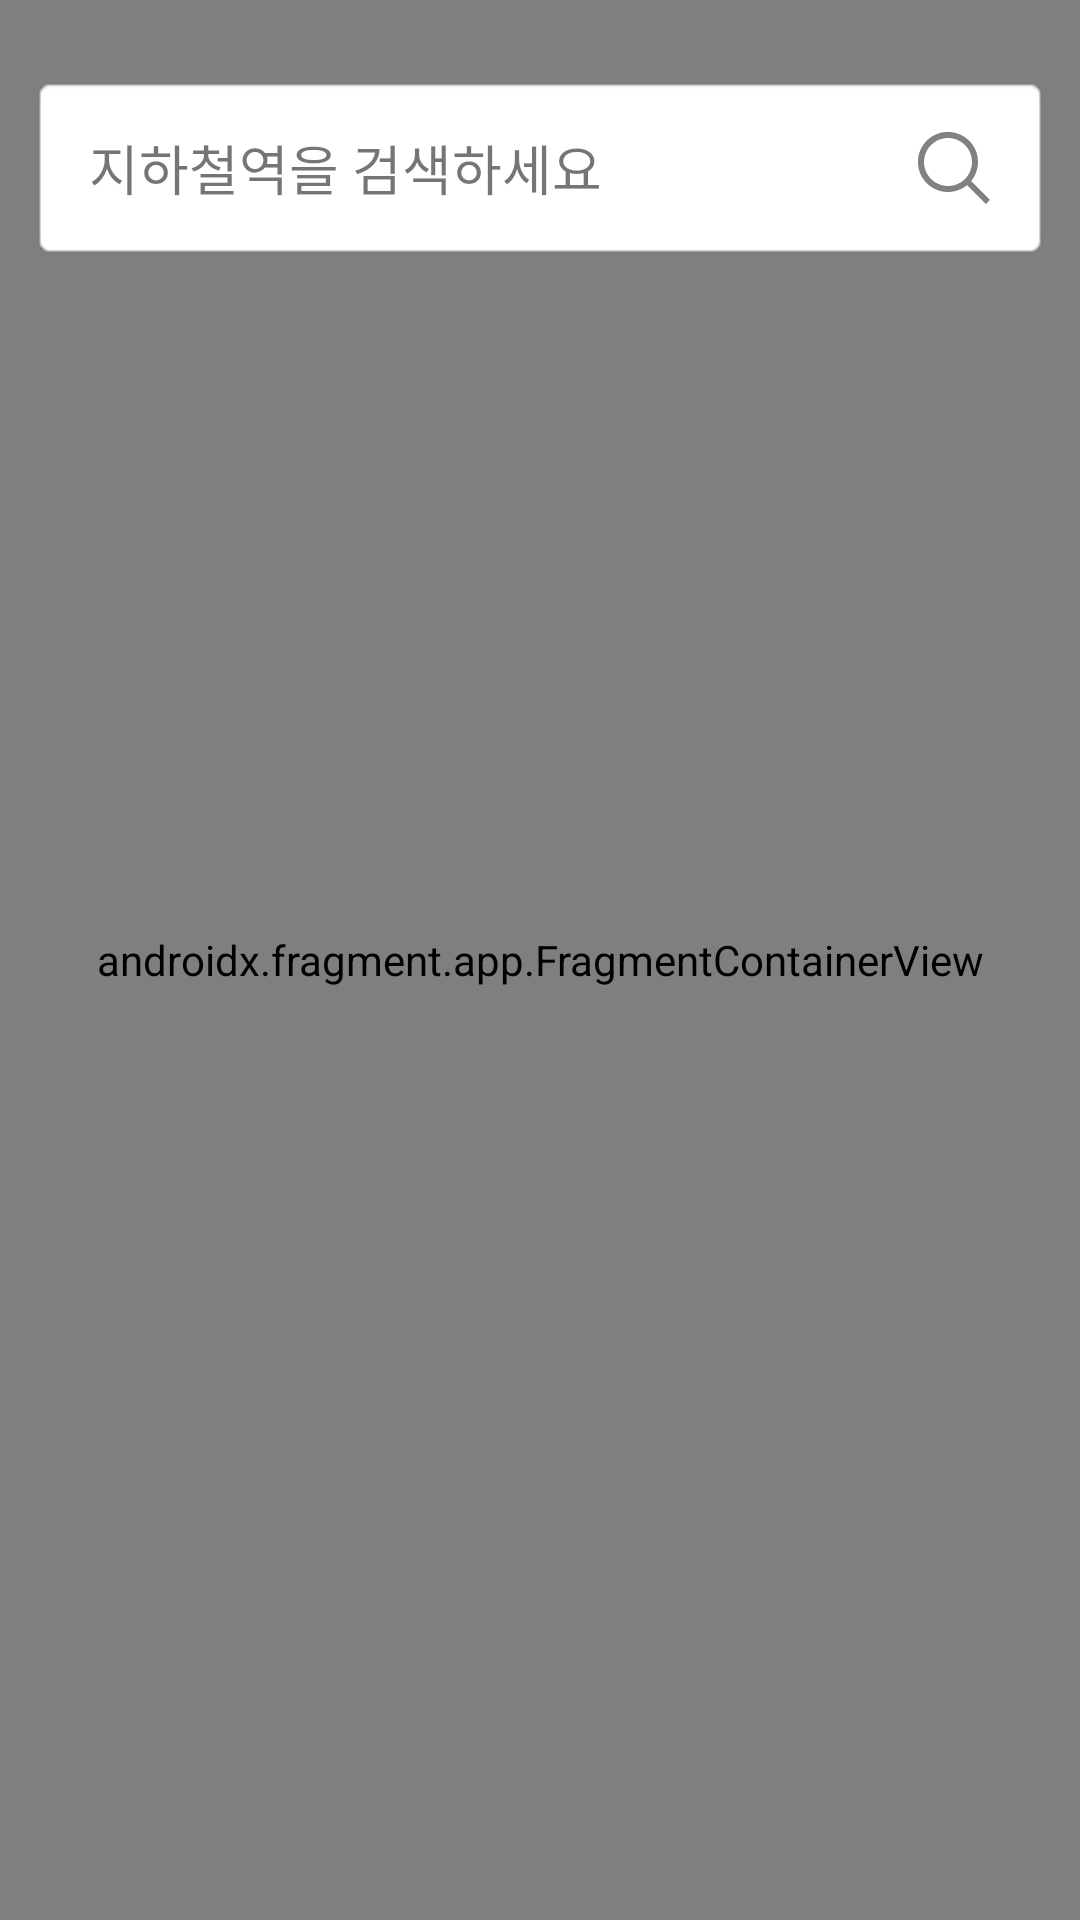

Where to tap for icons on this 1080w x 1920h app screen, as [x,y]:
search: [954,168]
